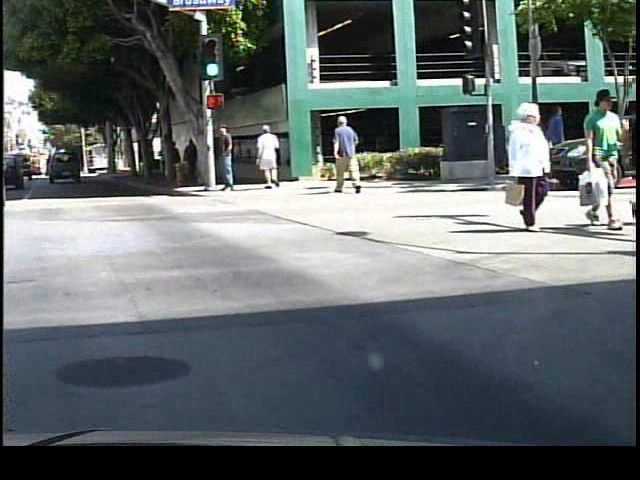person: (497, 103, 558, 238), (580, 88, 623, 235), (334, 114, 367, 196), (217, 123, 247, 205), (540, 103, 568, 181), (258, 123, 286, 194), (169, 140, 185, 187), (185, 136, 203, 170)
